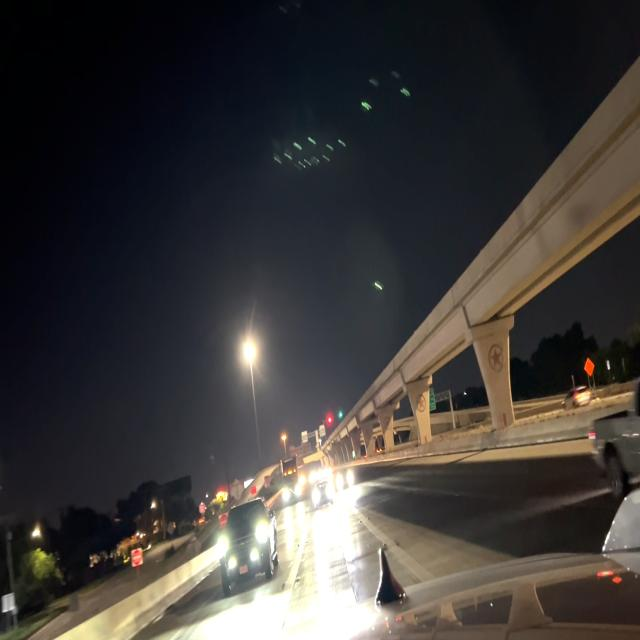back-of-sign: (230, 474, 245, 501)
